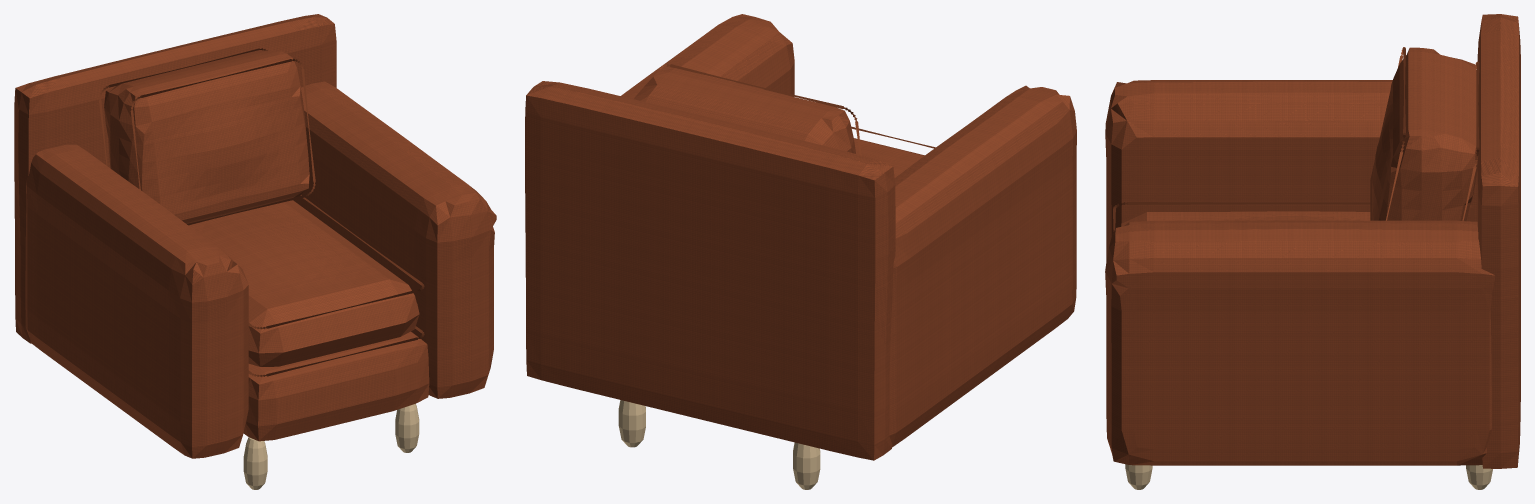
File: SAB-ARM-std.glb
3 views of the same model, side by side, from view 1: azimuth 30°, elevation 25°; view 2: azimuth 150°, elevation 25°; view 3: azimuth 270°, elevation 25° (orthographic). The views are drawn at different scales.
Visible parts, largest first — view 1: arm-pad-l:fabric:eyJwcmVzZXQiOiJjYW52YXMiLCJ3YXJwIjoicnVzdCI, arm-pad-r:fabric:eyJwcmVzZXQiOiJjYW52YXMiLCJ3YXJwIjoicnVzdCI, back-1:fabric:eyJwcmVzZXQiOiJjYW52YXMiLCJ3YXJwIjoicnVzdCIsIn, seat:fabric:eyJwcmVzZXQiOiJjYW52YXMiLCJ3YXJwIjoicnVzdCIsIndl, back-pad:fabric:eyJwcmVzZXQiOiJjYW52YXMiLCJ3YXJwIjoicnVzdCIs, deck:fabric:eyJwcmVzZXQiOiJjYW52YXMiLCJ3YXJwIjoicnVzdCIsIndl, back-1:piping:pbr, seat:piping:pbr, leg-fl:pbr, leg-fr:pbr; view 2: back-pad:fabric:eyJwcmVzZXQiOiJjYW52YXMiLCJ3YXJwIjoicnVzdCIs, arm-pad-l:fabric:eyJwcmVzZXQiOiJjYW52YXMiLCJ3YXJwIjoicnVzdCI, back-1:fabric:eyJwcmVzZXQiOiJjYW52YXMiLCJ3YXJwIjoicnVzdCIsIn, arm-pad-r:fabric:eyJwcmVzZXQiOiJjYW52YXMiLCJ3YXJwIjoicnVzdCI, seat:fabric:eyJwcmVzZXQiOiJjYW52YXMiLCJ3YXJwIjoicnVzdCIsIndl, leg-bl:pbr, leg-br:pbr, back-1:piping:pbr; view 3: arm-pad-r:fabric:eyJwcmVzZXQiOiJjYW52YXMiLCJ3YXJwIjoicnVzdCI, arm-pad-l:fabric:eyJwcmVzZXQiOiJjYW52YXMiLCJ3YXJwIjoicnVzdCI, back-pad:fabric:eyJwcmVzZXQiOiJjYW52YXMiLCJ3YXJwIjoicnVzdCIs, back-1:fabric:eyJwcmVzZXQiOiJjYW52YXMiLCJ3YXJwIjoicnVzdCIsIn, seat:fabric:eyJwcmVzZXQiOiJjYW52YXMiLCJ3YXJwIjoicnVzdCIsIndl, back-1:piping:pbr, seat:piping:pbr, leg-fr:pbr, leg-br:pbr.
Boxes of the visible parts, x1=… form: arm-pad-l:fabric:eyJwcmVzZXQiOiJjYW52YXMiLCJ3YXJwIjoicnVzdCI: x1=25, y1=144, x2=248, y2=458; arm-pad-r:fabric:eyJwcmVzZXQiOiJjYW52YXMiLCJ3YXJwIjoicnVzdCI: x1=293, y1=81, x2=496, y2=398; back-1:fabric:eyJwcmVzZXQiOiJjYW52YXMiLCJ3YXJwIjoicnVzdCIsIn: x1=104, y1=50, x2=309, y2=223; seat:fabric:eyJwcmVzZXQiOiJjYW52YXMiLCJ3YXJwIjoicnVzdCIsIndl: x1=188, y1=200, x2=419, y2=366; back-pad:fabric:eyJwcmVzZXQiOiJjYW52YXMiLCJ3YXJwIjoicnVzdCIs: x1=14, y1=14, x2=336, y2=343; deck:fabric:eyJwcmVzZXQiOiJjYW52YXMiLCJ3YXJwIjoicnVzdCIsIndl: x1=243, y1=331, x2=429, y2=441; back-1:piping:pbr: x1=99, y1=48, x2=315, y2=225; seat:piping:pbr: x1=248, y1=195, x2=424, y2=376; leg-fl:pbr: x1=243, y1=437, x2=267, y2=489; leg-fr:pbr: x1=395, y1=403, x2=419, y2=452; back-pad:fabric:eyJwcmVzZXQiOiJjYW52YXMiLCJ3YXJwIjoicnVzdCIs: x1=525, y1=81, x2=895, y2=460; arm-pad-l:fabric:eyJwcmVzZXQiOiJjYW52YXMiLCJ3YXJwIjoicnVzdCI: x1=889, y1=85, x2=1076, y2=447; back-1:fabric:eyJwcmVzZXQiOiJjYW52YXMiLCJ3YXJwIjoicnVzdCIsIn: x1=634, y1=66, x2=855, y2=153; arm-pad-r:fabric:eyJwcmVzZXQiOiJjYW52YXMiLCJ3YXJwIjoicnVzdCI: x1=621, y1=14, x2=794, y2=98; seat:fabric:eyJwcmVzZXQiOiJjYW52YXMiLCJ3YXJwIjoicnVzdCIsIndl: x1=854, y1=138, x2=924, y2=177; leg-bl:pbr: x1=793, y1=442, x2=820, y2=489; leg-br:pbr: x1=618, y1=400, x2=645, y2=447; back-1:piping:pbr: x1=659, y1=64, x2=861, y2=155; arm-pad-r:fabric:eyJwcmVzZXQiOiJjYW52YXMiLCJ3YXJwIjoicnVzdCI: x1=1105, y1=220, x2=1494, y2=465; arm-pad-l:fabric:eyJwcmVzZXQiOiJjYW52YXMiLCJ3YXJwIjoicnVzdCI: x1=1105, y1=80, x2=1477, y2=260; back-pad:fabric:eyJwcmVzZXQiOiJjYW52YXMiLCJ3YXJwIjoicnVzdCIs: x1=1477, y1=14, x2=1520, y2=468; back-1:fabric:eyJwcmVzZXQiOiJjYW52YXMiLCJ3YXJwIjoicnVzdCIsIn: x1=1370, y1=47, x2=1477, y2=221; seat:fabric:eyJwcmVzZXQiOiJjYW52YXMiLCJ3YXJwIjoicnVzdCIsIndl: x1=1120, y1=211, x2=1370, y2=226; back-1:piping:pbr: x1=1386, y1=47, x2=1479, y2=220; seat:piping:pbr: x1=1113, y1=202, x2=1473, y2=231; leg-fr:pbr: x1=1125, y1=464, x2=1152, y2=489; leg-br:pbr: x1=1466, y1=465, x2=1492, y2=489.
Bounding box in the file's own units: 0.85 × 0.8 × 0.85.
12 materials, 6 textured.
